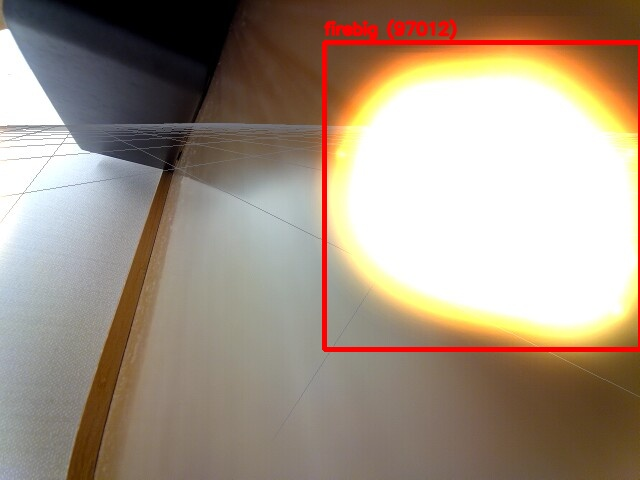firebig: (324, 42, 640, 349)
